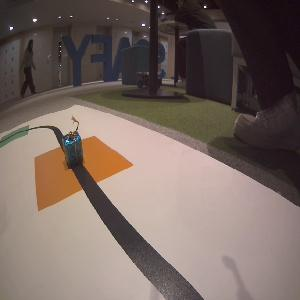box: (63, 128, 83, 168)
